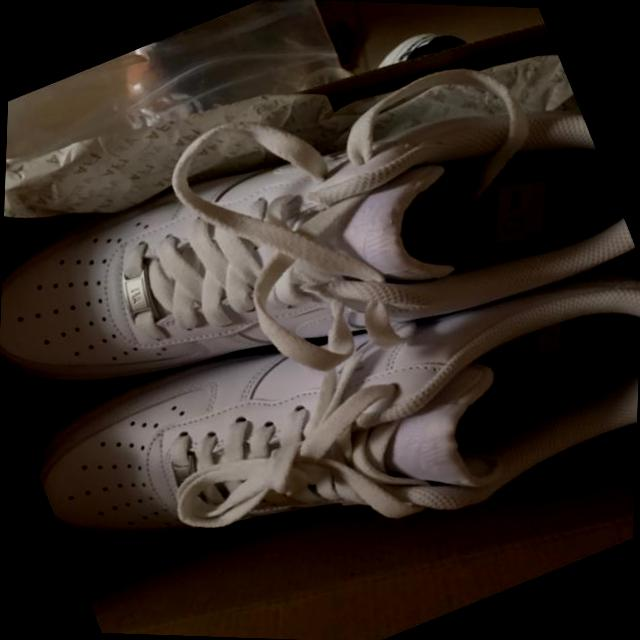nike_original_airforce: (0, 3, 640, 510), (12, 167, 640, 640)
